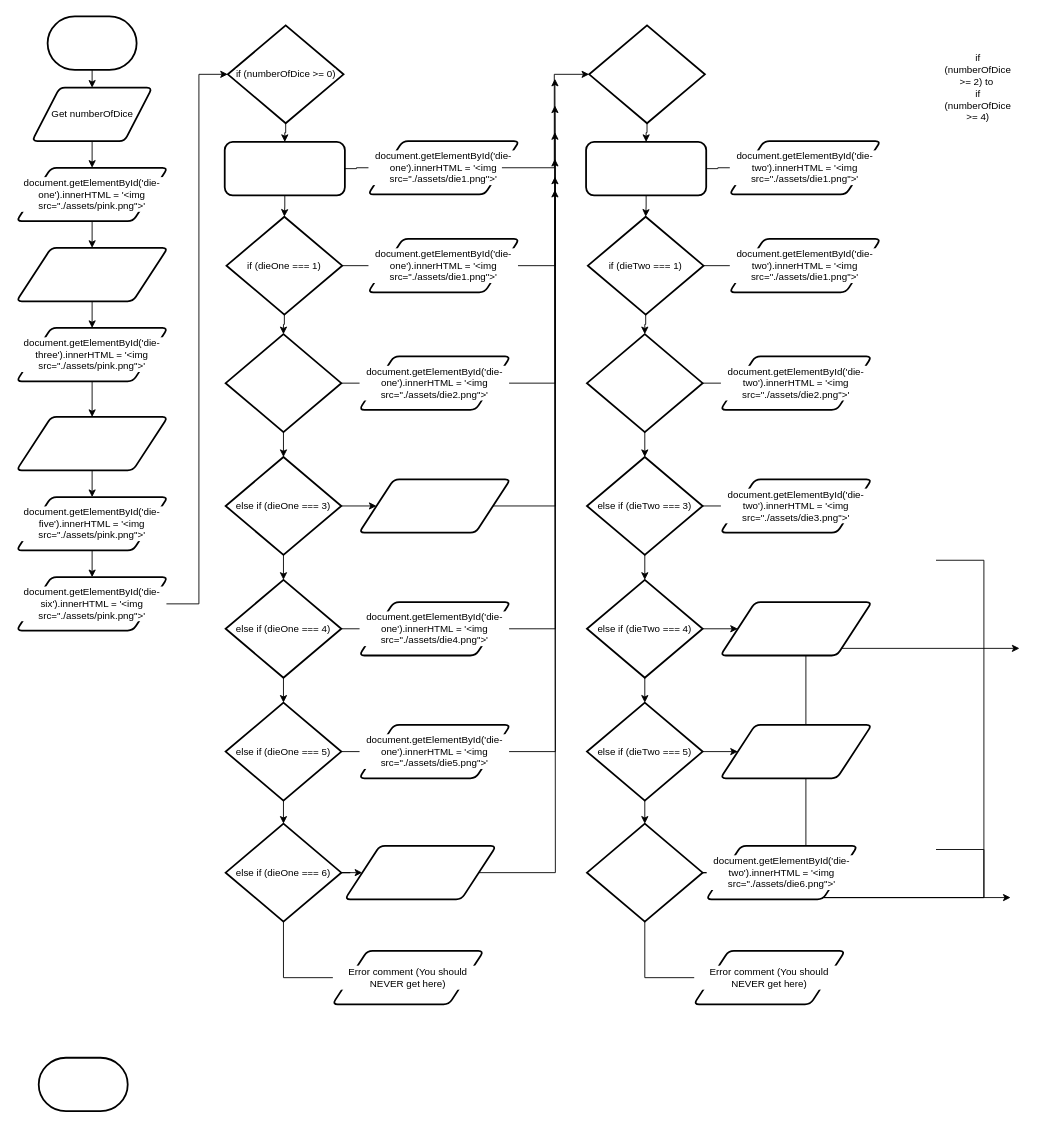
Image size: 1059x1127. Some labels were removed from this diagram. The shapes that lost their labels are listed below. From the top down, each one's centre as x and y in pixels, then its label:
[91,42]: Start
[646,74]: if (numberOfDice >= 1)
[284,168]: dieOne = Math.floor(Math.random() * 6) + 1
[646,168]: dieTwo = Math.floor(Math.random() * 6) + 1
[91,274]: document.getElementById('die-two').innerHTML = '<img src="./assets/pink.png" >'
[283,383]: else if (dieOne === 2)
[644,383]: else if ( dieTwo === 2)
[91,443]: document.getElementById('die-four').innerHTML = '<img src="./assets/pink.png" >'
[434,505]: document.getElementById('die-one').innerHTML = '<img src="./assets/die3.png">'
[795,628]: document.getElementById('die-two').innerHTML = '<img src="./assets/die4.png">'
[795,751]: document.getElementById('die-two').innerHTML = '<img src="./assets/die5.png">'
[420,872]: document.getElementById('die-one').innerHTML = '<img src="./assets/die6.png">'
[644,872]: else if ( dieTwo === 6)
[82,1084]: Stop
